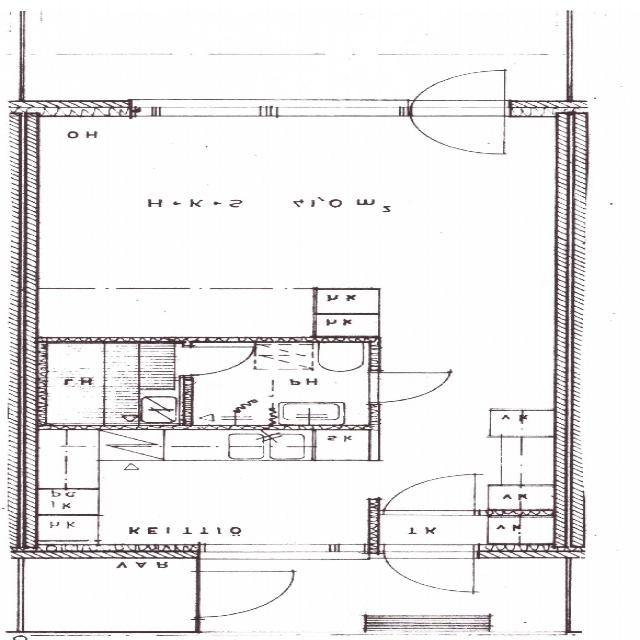door: (411, 106, 505, 159), (412, 64, 506, 117), (192, 570, 300, 616), (384, 468, 474, 514), (387, 544, 474, 591), (369, 372, 445, 402), (183, 347, 252, 374)
